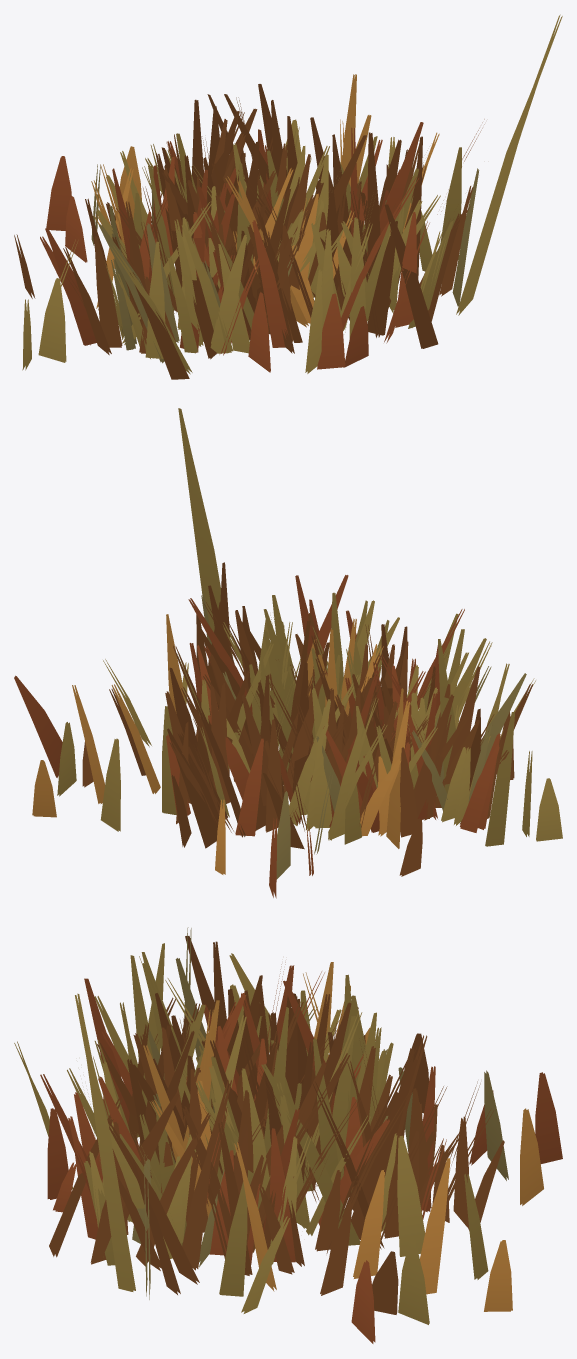
File: VerGrass06.glb
The picture shows the model from 3 angles, top to bottom: view 1: azimuth 30°, elevation 25°; view 2: azimuth 150°, elevation 25°; view 3: azimuth 270°, elevation 25°; orthographic projection. The views are drawn at different scales.
Visible parts, largest first — view 1: VerGrass06_blades; view 2: VerGrass06_blades; view 3: VerGrass06_blades.
Part boxes in pixels (x1,y1,x2,y2): VerGrass06_blades: (14,14,562,379); VerGrass06_blades: (14,408,562,898); VerGrass06_blades: (14,927,562,1343).
Size of the model in its own units: 2.82 by 1.54 by 2.2.
